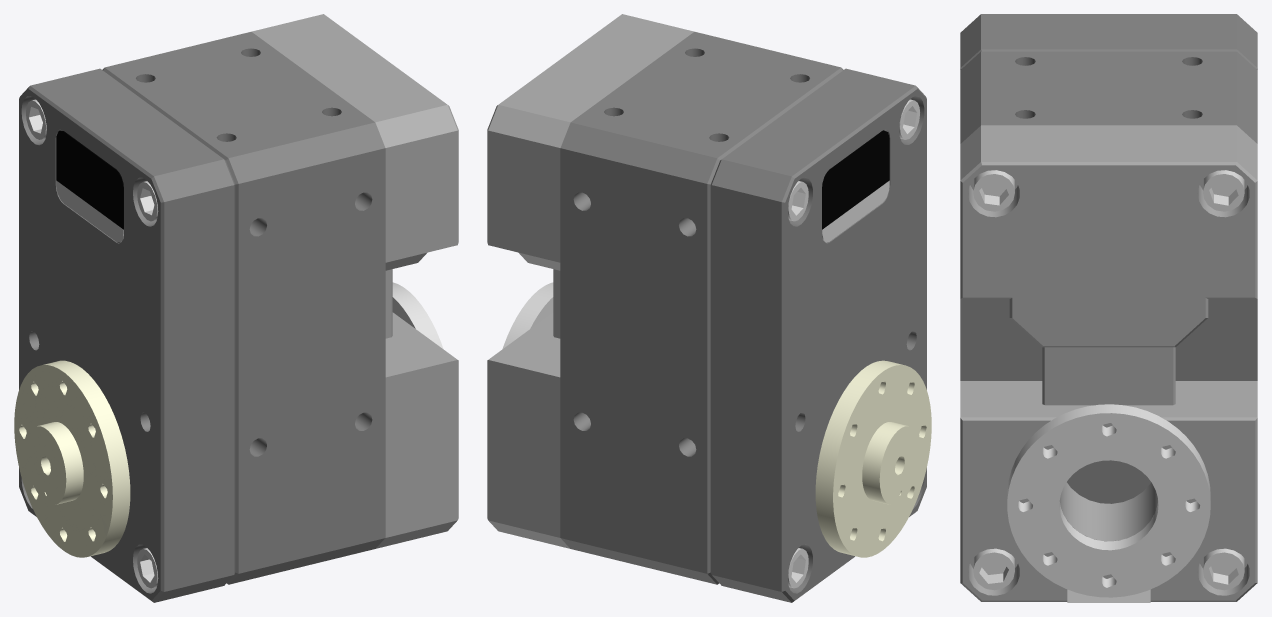
The picture shows the model from 3 angles, left to right: view 1: azimuth 30°, elevation 25°; view 2: azimuth 150°, elevation 25°; view 3: azimuth 270°, elevation 25°; orthographic projection. The views are drawn at different scales.
Parts seen in each view (by area): view 1: mesh_2_XM430-W350-R-1_XM430-W350-R_step-1_Part_3_step-1-soli; view 2: mesh_2_XM430-W350-R-1_XM430-W350-R_step-1_Part_3_step-1-soli; view 3: mesh_2_XM430-W350-R-1_XM430-W350-R_step-1_Part_3_step-1-soli.
Boxes of the visible parts, <box> form: mesh_2_XM430-W350-R-1_XM430-W350-R_step-1_Part_3_step-1-soli: <box>14,14,458,602</box>; mesh_2_XM430-W350-R-1_XM430-W350-R_step-1_Part_3_step-1-soli: <box>487,14,931,602</box>; mesh_2_XM430-W350-R-1_XM430-W350-R_step-1_Part_3_step-1-soli: <box>960,14,1257,602</box>.
Size of the model in its own units: 0.041 by 0.0285 by 0.0465.
